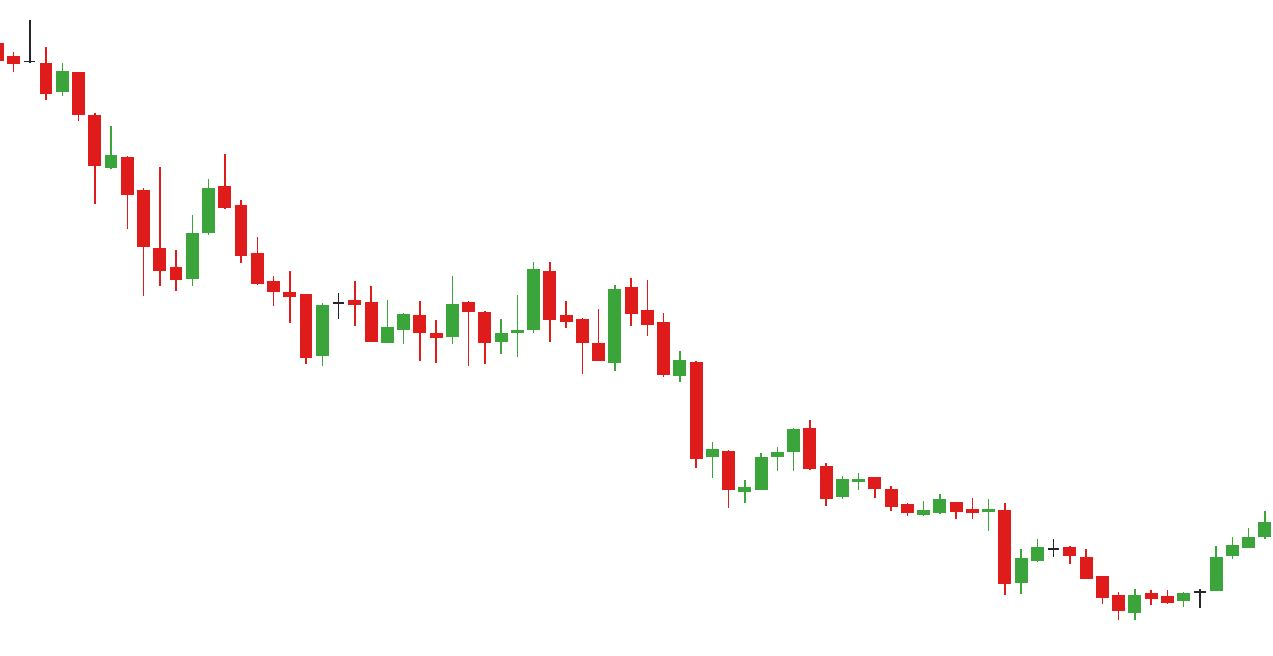sell: (441, 262, 558, 348), (154, 153, 232, 252)
